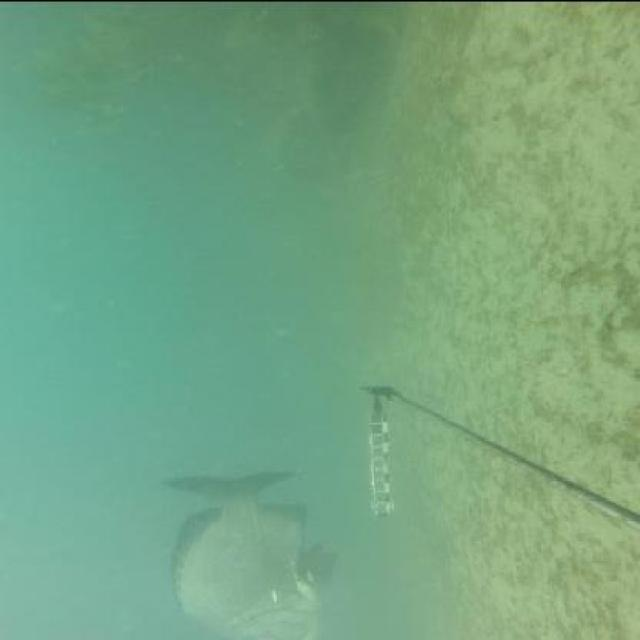acanthopagrus_palmaris: (157, 466, 340, 640)
